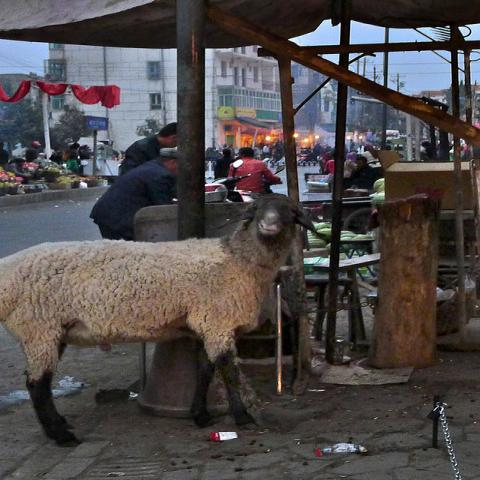motorcycle: (205, 159, 261, 202), (262, 165, 284, 194)
